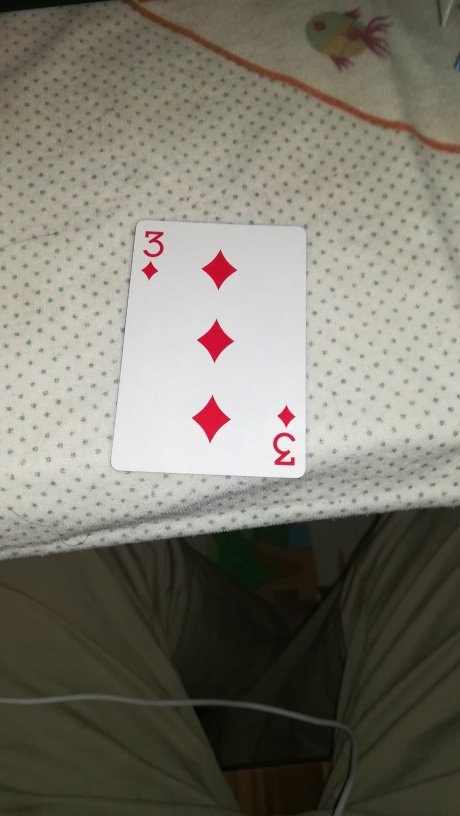fk 3: (106, 208, 313, 496)
